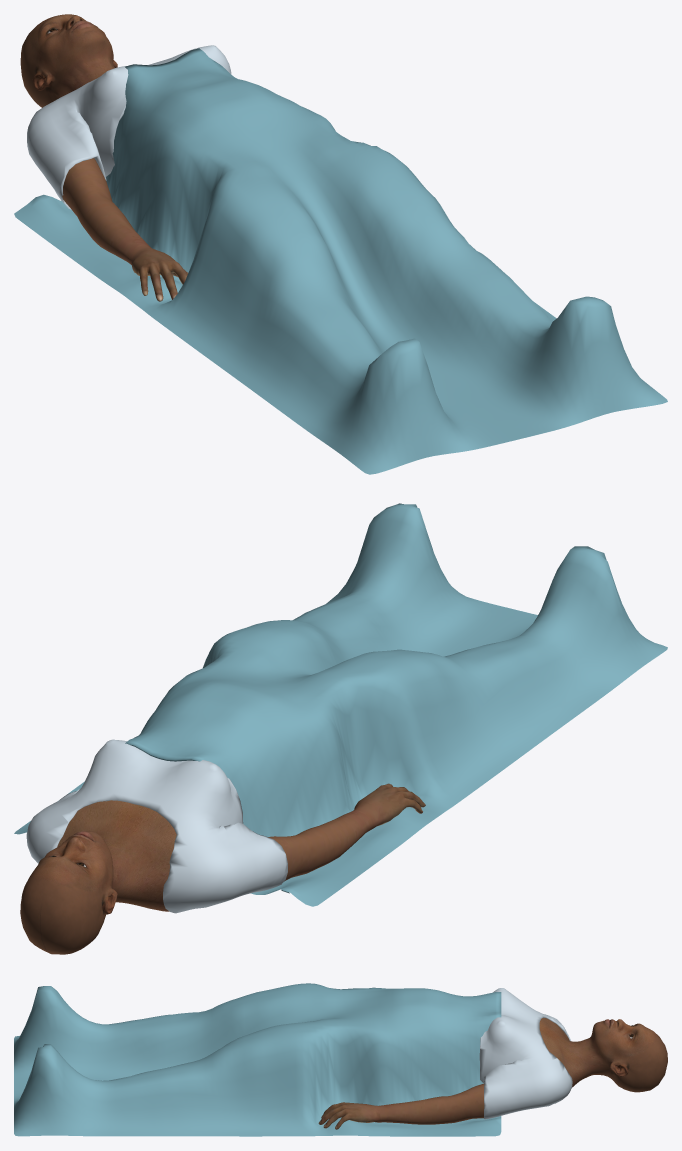
3 views of the same model, one above another, from view 1: azimuth 30°, elevation 25°; view 2: azimuth 150°, elevation 25°; view 3: azimuth 270°, elevation 25° (orthographic). The views are drawn at different scales.
Parts seen in each view (by area): view 1: sheet, gown, body, arms; view 2: sheet, gown, body, arms; view 3: sheet, gown, body, arms.
Boxes of the visible parts, x1,y1,x2,y2 form: sheet: (14, 48, 667, 474); gown: (27, 45, 231, 209); body: (20, 14, 117, 107); arms: (62, 158, 188, 301); sheet: (14, 503, 667, 906); gown: (26, 739, 287, 913); body: (20, 800, 176, 954); arms: (268, 783, 425, 881); sheet: (14, 983, 501, 1136); gown: (479, 988, 572, 1119); body: (539, 1018, 667, 1092); arms: (318, 1083, 484, 1129).
Bounding box in the file's own units: 0.6371 × 0.2649 × 1.75.
Materials: 7 (5 with a texture image).
